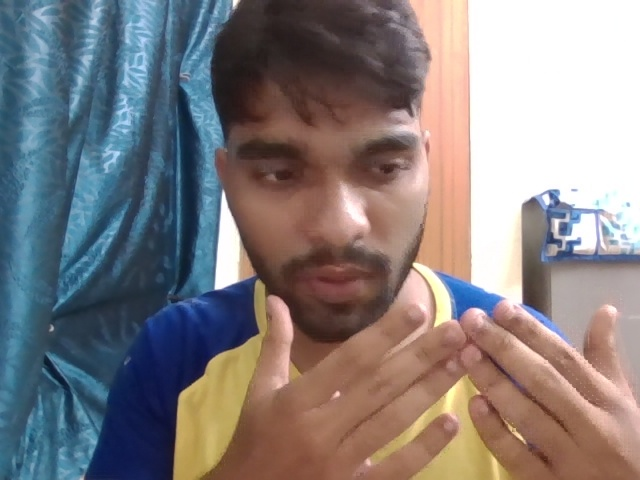Thank You: (214, 272, 640, 480)
